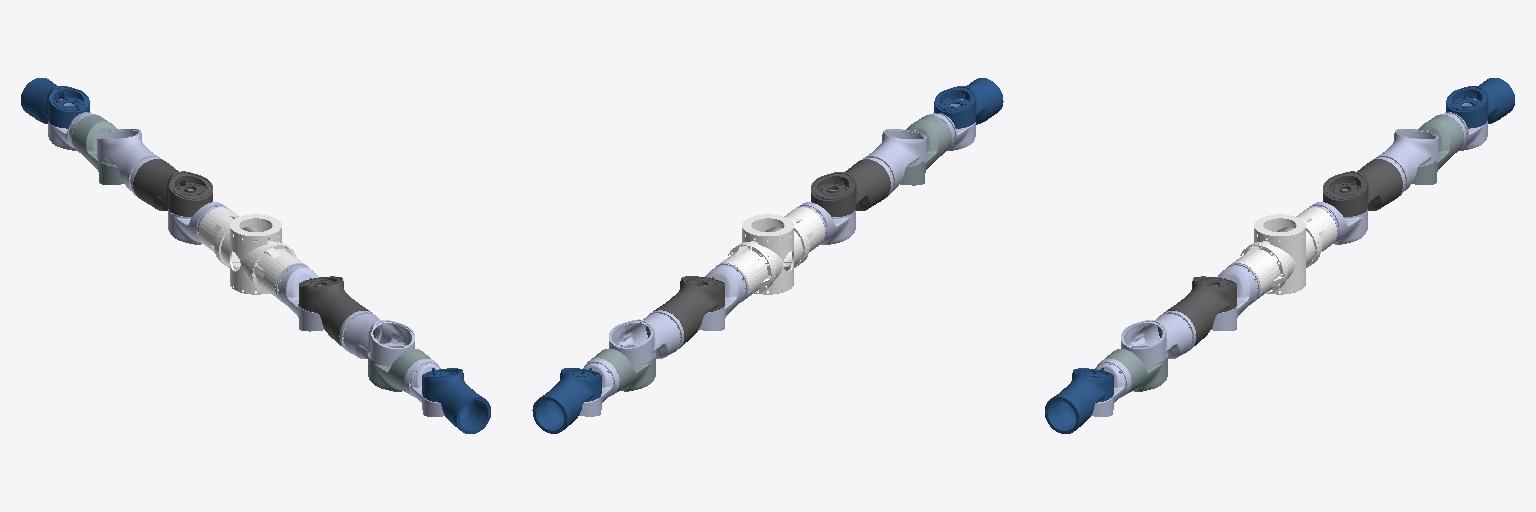
--- Render facts (derived) ---
3 views of the same robot in one strip: view 1: azimuth 30°, elevation 25°; view 2: azimuth 150°, elevation 25°; view 3: azimuth 330°, elevation 25° (orthographic).
Robot: double_urdf_1115 — 15 links, 14 joints (14 revolute); root link base_link; default pose: every joint at zero.
Links seen in each view (by area): view 1: Empty_Link3, base_link, Empty_Link11, Empty_Link14, Empty_Link10, Empty_Link7, Empty_Link4, Empty_Link5, Empty_Link9, Empty_Link8, Empty_Link12, Empty_Link1 (+3 smaller); view 2: Empty_Link10, base_link, Empty_Link7, Empty_Link4, Empty_Link14, Empty_Link3, Empty_Link11, Empty_Link12, Empty_Link2, Empty_Link1, Empty_Link5, Empty_Link8 (+3 smaller); view 3: Empty_Link3, base_link, Empty_Link11, Empty_Link14, Empty_Link10, Empty_Link7, Empty_Link4, Empty_Link5, Empty_Link9, Empty_Link8, Empty_Link12, Empty_Link2 (+3 smaller).
Boxes of the visible links, left/top/right/bottom form: Empty_Link3: left=133, top=159, right=212, bottom=216; base_link: left=217, top=214, right=286, bottom=294; Empty_Link11: left=340, top=311, right=414, bottom=366; Empty_Link14: left=422, top=368, right=490, bottom=433; Empty_Link10: left=299, top=276, right=377, bottom=345; Empty_Link7: left=21, top=78, right=89, bottom=128; Empty_Link4: left=97, top=129, right=162, bottom=195; Empty_Link5: left=72, top=115, right=123, bottom=184; Empty_Link9: left=275, top=264, right=324, bottom=331; Empty_Link8: left=250, top=243, right=306, bottom=298; Empty_Link12: left=368, top=349, right=430, bottom=393; Empty_Link1: left=199, top=207, right=256, bottom=263; Empty_Link10: left=811, top=159, right=890, bottom=216; base_link: left=739, top=214, right=806, bottom=294; Empty_Link7: left=532, top=368, right=601, bottom=433; Empty_Link4: left=609, top=310, right=683, bottom=366; Empty_Link14: left=934, top=78, right=1003, bottom=128; Empty_Link3: left=646, top=276, right=724, bottom=346; Empty_Link11: left=862, top=129, right=926, bottom=197; Empty_Link12: left=900, top=115, right=951, bottom=185; Empty_Link2: left=699, top=263, right=748, bottom=330; Empty_Link1: left=720, top=243, right=773, bottom=301; Empty_Link5: left=591, top=349, right=655, bottom=392; Empty_Link8: left=767, top=207, right=824, bottom=262; Empty_Link3: left=1323, top=159, right=1402, bottom=216; base_link: left=1249, top=214, right=1318, bottom=294; Empty_Link11: left=1121, top=311, right=1195, bottom=366; Empty_Link14: left=1045, top=368, right=1113, bottom=433; Empty_Link10: left=1158, top=276, right=1236, bottom=345; Empty_Link7: left=1446, top=78, right=1514, bottom=128; Empty_Link4: left=1373, top=129, right=1438, bottom=198; Empty_Link5: left=1412, top=115, right=1463, bottom=184; Empty_Link9: left=1211, top=264, right=1260, bottom=330; Empty_Link8: left=1229, top=243, right=1285, bottom=298; Empty_Link12: left=1105, top=349, right=1167, bottom=393; Empty_Link2: left=1307, top=189, right=1367, bottom=244.
Size in the robot's own frame: 0.11 by 1.83 by 0.1365 metres.
15 mesh visuals loaded from 15 distinct referenced files (15 binary STL).

robot.urdf — double_urdf_1115:
<?xml version="1.0" encoding="utf-8" ?>
<!-- This URDF was automatically created by SolidWorks to URDF Exporter! Originally created by Stephen Brawner ([email redacted]) 
     Commit Version: 1.6.0-4-g7f85cfe  Build Version: 1.6.7995.38578
     For more information, please see http://wiki.ros.org/sw_urdf_exporter -->
<robot name="double_urdf_1115">
    <link name="base_link">
        <inertial>
            <origin xyz="0.0014924 -3.6009E-07 0.0071665" rpy="0 0 0" />
            <mass value="0.26633" />
            <inertia ixx="0.001015" ixy="-1.6437E-08" ixz="2.8422E-06" iyy="0.00087826" iyz="-1.5352E-09" izz="0.0009477" />
        </inertial>
        <visual>
            <origin xyz="0 0 0" rpy="0 0 0" />
            <geometry>
                <mesh filename="package://double_urdf_1115/meshes/base_link.STL" />
            </geometry>
            <material name="">
                <color rgba="1 1 1 1" />
            </material>
        </visual>
        <collision>
            <origin xyz="0 0 0" rpy="0 0 0" />
            <geometry>
                <mesh filename="package://double_urdf_1115/meshes/base_link.STL" />
            </geometry>
        </collision>
    </link>
    <link name="Empty_Link1">
        <inertial>
            <origin xyz="1.3342E-15 -1.4314E-16 -0.045037" rpy="0 0 0" />
            <mass value="0.13934" />
            <inertia ixx="0.00027154" ixy="-1.0009E-19" ixz="1.8873E-20" iyy="0.00027154" iyz="2.3247E-20" izz="0.0002872" />
        </inertial>
        <visual>
            <origin xyz="0 0 0.085" rpy="0 0 0" />
            <geometry>
                <mesh filename="package://double_urdf_1115/meshes/Empty_Link1.STL" />
            </geometry>
            <material name="">
                <color rgba="1 1 1 1" />
            </material>
        </visual>
        <collision>
            <origin xyz="0 0 0" rpy="0 0 0" />
            <geometry>
                <mesh filename="package://double_urdf_1115/meshes/Empty_Link1.STL" />
            </geometry>
        </collision>
    </link>
    <joint name="joint1" type="revolute">
        <origin xyz="0 0.07 0" rpy="-1.5708 0 0" />
        <parent link="base_link" />
        <child link="Empty_Link1" />
        <axis xyz="0 0 1" />
        <limit lower="-3.14" upper="3.14" effort="0" velocity="0" />
    </joint>
    <link name="Empty_Link2">
        <inertial>
            <origin xyz="7.166E-06 -0.048549 -0.0068856" rpy="0 0 0" />
            <mass value="0.18506" />
            <inertia ixx="0.00057474" ixy="1.582E-08" ixz="1.5257E-08" iyy="0.00030975" iyz="2.2393E-05" izz="0.00060015" />
        </inertial>
        <visual>
            <origin xyz="0 0.11922 0" rpy="0 0 0" />
            <geometry>
                <mesh filename="package://double_urdf_1115/meshes/Empty_Link2.STL" />
            </geometry>
            <material name="">
                <color rgba="0.79216 0.81961 0.93333 1" />
            </material>
        </visual>
        <collision>
            <origin xyz="0 0 0" rpy="0 0 0" />
            <geometry>
                <mesh filename="package://double_urdf_1115/meshes/Empty_Link2.STL" />
            </geometry>
        </collision>
    </link>
    <joint name="joint2" type="revolute">
        <origin xyz="0 -0.00035 0.085" rpy="1.5708 0 0" />
        <parent link="Empty_Link1" />
        <child link="Empty_Link2" />
        <axis xyz="0 1 0" />
        <limit lower="-3.14" upper="3.14" effort="0" velocity="0" />
    </joint>
    <link name="Empty_Link3">
        <inertial>
            <origin xyz="5.8184E-05 -0.016095 -0.091281" rpy="0 0 0" />
            <mass value="0.17747" />
            <inertia ixx="0.00082408" ixy="-1.8121E-07" ixz="3.8226E-07" iyy="0.00083188" iyz="-0.00014581" izz="0.00032099" />
        </inertial>
        <visual>
            <origin xyz="0 0 0.15914" rpy="0 0 0" />
            <geometry>
                <mesh filename="package://double_urdf_1115/meshes/Empty_Link3.STL" />
            </geometry>
            <material name="">
                <color rgba="0.4 0.4 0.4 1" />
            </material>
        </visual>
        <collision>
            <origin xyz="0 0 0" rpy="0 0 0" />
            <geometry>
                <mesh filename="package://double_urdf_1115/meshes/Empty_Link3.STL" />
            </geometry>
        </collision>
    </link>
    <joint name="joint3" type="revolute">
        <origin xyz="0 0.11922 -0.00045174" rpy="-1.5708 0 0" />
        <parent link="Empty_Link2" />
        <child link="Empty_Link3" />
        <axis xyz="0 1 0" />
        <limit lower="-3.14" upper="3.14" effort="0" velocity="0" />
    </joint>
    <link name="Empty_Link4">
        <inertial>
            <origin xyz="-2.34690957390065E-05 0.0530429982897136 -0.0344936012786148" rpy="0 0 0" />
            <mass value="0.16192408835113" />
            <inertia ixx="0.000592553537026838" ixy="1.24920714247319E-07" ixz="-2.56857673520256E-08" iyy="0.000284690856489502" iyz="-1.56663424512197E-05" izz="0.000621255050385904" />
        </inertial>
        <visual>
            <origin xyz="0 -0.141 0.027937" rpy="0 0 0" />
            <geometry>
                <mesh filename="package://double_urdf_1115/meshes/Empty_Link4.STL" />
            </geometry>
            <material name="">
                <color rgba="0.792156862745098 0.819607843137255 0.933333333333333 1" />
            </material>
        </visual>
        <collision>
            <origin xyz="0 0 0" rpy="0 0 0" />
            <geometry>
                <mesh filename="package://double_urdf_1115/meshes/Empty_Link4.STL" />
            </geometry>
        </collision>
    </link>
    <joint name="joint4" type="revolute">
        <origin xyz="0 0.00045174 0.15914" rpy="-1.5708 0 0" />
        <parent link="Empty_Link3" />
        <child link="Empty_Link4" />
        <axis xyz="0 1 0" />
        <limit lower="-3.14" upper="3.14" effort="0" velocity="0" />
    </joint>
    <link name="Empty_Link5">
        <inertial>
            <origin xyz="1.04535537986443E-05 0.0186156117776231 -0.0808695350497136" rpy="0 0 0" />
            <mass value="0.168807323609659" />
            <inertia ixx="0.000595652486887033" ixy="-1.15153474040901E-08" ixz="3.52118443057937E-08" iyy="0.000609012231195647" iyz="0.000119225841892786" izz="0.000286029197228179" />
        </inertial>
        <visual>
            <origin xyz="0 0.028113 0.13261" rpy="0 0 0" />
            <geometry>
                <mesh filename="package://double_urdf_1115/meshes/Empty_Link5.STL" />
            </geometry>
            <material name="">
                <color rgba="0.592156862745098 0.666666666666667 0.682352941176471 1" />
            </material>
        </visual>
        <collision>
            <origin xyz="0 0 0" rpy="0 0 0" />
            <geometry>
                <mesh filename="package://double_urdf_1115/meshes/Empty_Link5.STL" />
            </geometry>
        </collision>
    </link>
    <joint name="joint5" type="revolute">
        <origin xyz="0 -0.13261 -0.028113" rpy="1.5708 0 0" />
        <parent link="Empty_Link4" />
        <child link="Empty_Link5" />
        <axis xyz="0 1 0" />
        <limit lower="-3.14" upper="3.14" effort="0" velocity="0" />
    </joint>
    <link name="Empty_Link6">
        <inertial>
            <origin xyz="-5.37742704261599E-06 -0.0294879271262189 -0.0050268422920796" rpy="0 0 0" />
            <mass value="0.117396065677008" />
            <inertia ixx="0.000223870432302695" ixy="7.95027783487269E-09" ixz="-5.72128501019399E-09" iyy="0.000157599697987618" iyz="-2.17977047320675E-06" izz="0.000247478280617227" />
        </inertial>
        <visual>
            <origin xyz="0 0.0874 0" rpy="0 0 0" />
            <geometry>
                <mesh filename="package://double_urdf_1115/meshes/Empty_Link6.STL" />
            </geometry>
            <material name="">
                <color rgba="0.792156862745098 0.819607843137255 0.933333333333333 1" />
            </material>
        </visual>
        <collision>
            <origin xyz="0 0 0" rpy="0 0 0" />
            <geometry>
                <mesh filename="package://double_urdf_1115/meshes/Empty_Link6.STL" />
            </geometry>
        </collision>
    </link>
    <joint name="joint6" type="revolute">
        <origin xyz="0 0.028113 0.13261" rpy="1.5708 0 0" />
        <parent link="Empty_Link5" />
        <child link="Empty_Link6" />
        <axis xyz="0 1 0" />
        <limit lower="-3.14" upper="3.14" effort="0" velocity="0" />
    </joint>
    <link name="Empty_Link7">
        <inertial>
            <origin xyz="-3.59625462130323E-05 -0.0148085138766828 -0.0803302114956457" rpy="0 0 0" />
            <mass value="0.142755944866628" />
            <inertia ixx="0.000464416842224509" ixy="-1.13125801258198E-07" ixz="-2.41633988960636E-07" iyy="0.000477322772947618" iyz="-8.04893326122221E-05" izz="0.000208248311212371" />
        </inertial>
        <visual>
            <origin xyz="0 0 0.13012" rpy="0 0 0" />
            <geometry>
                <mesh filename="package://double_urdf_1115/meshes/Empty_Link7.STL" />
            </geometry>
            <material name="">
                <color rgba="0.207843137254902 0.376470588235294 0.568627450980392 1" />
            </material>
        </visual>
        <collision>
            <origin xyz="0 0 0" rpy="0 0 0" />
            <geometry>
                <mesh filename="package://double_urdf_1115/meshes/Empty_Link7.STL" />
            </geometry>
        </collision>
    </link>
    <joint name="joint7" type="revolute">
        <origin xyz="0 0.0874 6.068E-05" rpy="-1.5708 0 0" />
        <parent link="Empty_Link6" />
        <child link="Empty_Link7" />
        <axis xyz="0 1 0" />
        <limit lower="-3.14" upper="3.14" effort="0" velocity="0" />
    </joint>
    <link name="Empty_Link8">
        <inertial>
            <origin xyz="1.49721899678073E-17 1.21212098202637E-17 -0.0450366643520861" rpy="0 0 0" />
            <mass value="0.139340614702608" />
            <inertia ixx="0.000271543617515806" ixy="0" ixz="3.28941289409917E-20" iyy="0.000271543617515806" iyz="-1.90269046791232E-20" izz="0.000287198405303248" />
        </inertial>
        <visual>
            <origin xyz="0 0 0.085" rpy="0 0 0" />
            <geometry>
                <mesh filename="package://double_urdf_1115/meshes/Empty_Link8.STL" />
            </geometry>
            <material name="">
                <color rgba="1 1 1 1" />
            </material>
        </visual>
        <collision>
            <origin xyz="0 0 0" rpy="0 0 0" />
            <geometry>
                <mesh filename="package://double_urdf_1115/meshes/Empty_Link8.STL" />
            </geometry>
        </collision>
    </link>
    <joint name="joint8" type="revolute">
        <origin xyz="0 -0.07 0" rpy="1.5708 0 0" />
        <parent link="base_link" />
        <child link="Empty_Link8" />
        <axis xyz="0 0 1" />
        <limit lower="-3.14" upper="3.14" effort="0" velocity="0" />
    </joint>
    <link name="Empty_Link9">
        <inertial>
            <origin xyz="-7.16594927825932E-06 0.0485485652046426 -0.00688560464007289" rpy="0 0 0" />
            <mass value="0.185060518932336" />
            <inertia ixx="0.000574743039604598" ixy="1.58201859118487E-08" ixz="-1.52565385581314E-08" iyy="0.000309754503746068" iyz="-2.23925932297582E-05" izz="0.000600146186131235" />
        </inertial>
        <visual>
            <origin xyz="0 -0.11922 0" rpy="0 0 0" />
            <geometry>
                <mesh filename="package://double_urdf_1115/meshes/Empty_Link9.STL" />
            </geometry>
            <material name="">
                <color rgba="0.792156862745098 0.819607843137255 0.933333333333333 1" />
            </material>
        </visual>
        <collision>
            <origin xyz="0 0 0" rpy="0 0 0" />
            <geometry>
                <mesh filename="package://double_urdf_1115/meshes/Empty_Link9.STL" />
            </geometry>
        </collision>
    </link>
    <joint name="joint9" type="revolute">
        <origin xyz="0 -0.00035 0.085" rpy="-1.5708 0 0" />
        <parent link="Empty_Link8" />
        <child link="Empty_Link9" />
        <axis xyz="0 1 0" />
        <limit lower="-3.14" upper="3.14" effort="0" velocity="0" />
    </joint>
    <link name="Empty_Link10">
        <inertial>
            <origin xyz="-5.94384826685485E-05 0.0160958771905672 -0.0912820049952374" rpy="0 0 0" />
            <mass value="0.177472851336342" />
            <inertia ixx="0.000824077447613594" ixy="-1.72307611943163E-07" ixz="-3.71042895258372E-07" iyy="0.000831872702963459" iyz="0.000145819419475302" izz="0.000320999323188475" />
        </inertial>
        <visual>
            <origin xyz="0 0 0.15914" rpy="0 0 0" />
            <geometry>
                <mesh filename="package://double_urdf_1115/meshes/Empty_Link10.STL" />
            </geometry>
            <material name="">
                <color rgba="0.4 0.4 0.4 1" />
            </material>
        </visual>
        <collision>
            <origin xyz="0 0 0" rpy="0 0 0" />
            <geometry>
                <mesh filename="package://double_urdf_1115/meshes/Empty_Link10.STL" />
            </geometry>
        </collision>
    </link>
    <joint name="joint10" type="revolute">
        <origin xyz="0 -0.11922 -0.00045174" rpy="1.5708 0 0" />
        <parent link="Empty_Link9" />
        <child link="Empty_Link10" />
        <axis xyz="0 1 0" />
        <limit lower="-3.14" upper="3.14" effort="0" velocity="0" />
    </joint>
    <link name="Empty_Link11">
        <inertial>
            <origin xyz="2.34441480310305E-05 -0.0530429302263745 -0.0344937239635185" rpy="0 0 0" />
            <mass value="0.161924001999403" />
            <inertia ixx="0.000592552353330134" ixy="1.2434344296049E-07" ixz="2.63003230418194E-08" iyy="0.000284690451366544" iyz="1.56656637680802E-05" izz="0.000621253748082398" />
        </inertial>
        <visual>
            <origin xyz="0 0.141 0.027937" rpy="0 0 0" />
            <geometry>
                <mesh filename="package://double_urdf_1115/meshes/Empty_Link11.STL" />
            </geometry>
            <material name="">
                <color rgba="0.792156862745098 0.819607843137255 0.933333333333333 1" />
            </material>
        </visual>
        <collision>
            <origin xyz="0 0 0" rpy="0 0 0" />
            <geometry>
                <mesh filename="package://double_urdf_1115/meshes/Empty_Link11.STL" />
            </geometry>
        </collision>
    </link>
    <joint name="joint11" type="revolute">
        <origin xyz="0 -0.00045174 0.15914" rpy="1.5708 0 0" />
        <parent link="Empty_Link10" />
        <child link="Empty_Link11" />
        <axis xyz="0 1 0" />
        <limit lower="-3.14" upper="3.14" effort="0" velocity="0" />
    </joint>
    <link name="Empty_Link12">
        <inertial>
            <origin xyz="-1.04514586418068E-05 -0.0186156122160094 -0.0808695354091304" rpy="0 0 0" />
            <mass value="0.168807314881665" />
            <inertia ixx="0.000595652505520319" ixy="-1.15092010285501E-08" ixz="-3.52119149028543E-08" iyy="0.000609012222102752" iyz="-0.000119225846097008" izz="0.000286029204756189" />
        </inertial>
        <visual>
            <origin xyz="0 -0.028113 0.13261" rpy="0 0 0" />
            <geometry>
                <mesh filename="package://double_urdf_1115/meshes/Empty_Link12.STL" />
            </geometry>
            <material name="">
                <color rgba="0.592156862745098 0.666666666666667 0.682352941176471 1" />
            </material>
        </visual>
        <collision>
            <origin xyz="0 0 0" rpy="0 0 0" />
            <geometry>
                <mesh filename="package://double_urdf_1115/meshes/Empty_Link12.STL" />
            </geometry>
        </collision>
    </link>
    <joint name="joint12" type="revolute">
        <origin xyz="0 0.13261 -0.028113" rpy="-1.5708 0 0" />
        <parent link="Empty_Link11" />
        <child link="Empty_Link12" />
        <axis xyz="0 1 0" />
        <limit lower="-3.14" upper="3.14" effort="0" velocity="0" />
    </joint>
    <link name="Empty_Link13">
        <inertial>
            <origin xyz="5.40421941918373E-06 0.0294879292709374 -0.00502683974917504" rpy="0 0 0" />
            <mass value="0.117396053955842" />
            <inertia ixx="0.000223870417500324" ixy="8.02611360782286E-09" ixz="5.79779807908504E-09" iyy="0.000157599679542628" iyz="2.17977735443414E-06" izz="0.00024747826441045" />
        </inertial>
        <visual>
            <origin xyz="0 -0.0874 0" rpy="0 0 0" />
            <geometry>
                <mesh filename="package://double_urdf_1115/meshes/Empty_Link13.STL" />
            </geometry>
            <material name="">
                <color rgba="0.792156862745098 0.819607843137255 0.933333333333333 1" />
            </material>
        </visual>
        <collision>
            <origin xyz="0 0 0" rpy="0 0 0" />
            <geometry>
                <mesh filename="package://double_urdf_1115/meshes/Empty_Link13.STL" />
            </geometry>
        </collision>
    </link>
    <joint name="joint13" type="revolute">
        <origin xyz="0 -0.028113 0.13261" rpy="-1.5708 0 0" />
        <parent link="Empty_Link12" />
        <child link="Empty_Link13" />
        <axis xyz="0 1 0" />
        <limit lower="-3.14" upper="3.14" effort="0" velocity="0" />
    </joint>
    <link name="Empty_Link14">
        <inertial>
            <origin xyz="3.5981E-05 0.014808 -0.08033" rpy="0 0 0" />
            <mass value="0.14276" />
            <inertia ixx="0.00046442" ixy="-1.1306E-07" ixz="2.4166E-07" iyy="0.00047732" iyz="8.0489E-05" izz="0.00020825" />
        </inertial>
        <visual>
            <origin xyz="0 0 0.13012" rpy="0 0 0" />
            <geometry>
                <mesh filename="package://double_urdf_1115/meshes/Empty_Link14.STL" />
            </geometry>
            <material name="">
                <color rgba="0.20784 0.37647 0.56863 1" />
            </material>
        </visual>
        <collision>
            <origin xyz="0 0 0" rpy="0 0 0" />
            <geometry>
                <mesh filename="package://double_urdf_1115/meshes/Empty_Link14.STL" />
            </geometry>
        </collision>
    </link>
    <joint name="joint14" type="revolute">
        <origin xyz="0 -0.0874 6.068E-05" rpy="1.5708 0 0" />
        <parent link="Empty_Link13" />
        <child link="Empty_Link14" />
        <axis xyz="0 1 0" />
        <limit lower="-3.14" upper="3.14" effort="0" velocity="0" />
    </joint>
    <gazebo>
        <physics>
            <ode>
                <cfm>0.1</cfm>
                <erp>0.2</erp>
            </ode>
        </physics>
        <plugin name="joint_state_publisher" filename="libgazebo_ros_joint_state_publisher.so">
            <joint_name>joint1, joint2, joint3, joint4, joint5, joint6, joint7, joint8, joint9, joint10, joint11, joint12, joint13, joint14</joint_name>
            <update_rate>50</update_rate>
        </plugin>
        <plugin name="gazebo_ros_control" filename="libgazebo_ros_control.so">
            <robotNamespace>/</robotNamespace>
            <robotSimType>gazebo_ros_control/DefaultRobotHWSim</robotSimType>
        </plugin>
    </gazebo>
    <transmission name="trans_joint1">
        <type>transmission_interface/SimpleTransmission</type>
        <joint name="joint1">
            <hardwareInterface>hardware_interface/EffortJointInterface</hardwareInterface>
        </joint>
        <actuator name="joint1_motor">
            <hardwareInterface>hardware_interface/EffortJointInterface</hardwareInterface>
            <mechanicalReduction>1</mechanicalReduction>
        </actuator>
    </transmission>
    <transmission name="trans_joint2">
        <type>transmission_interface/SimpleTransmission</type>
        <joint name="joint2">
            <hardwareInterface>hardware_interface/EffortJointInterface</hardwareInterface>
        </joint>
        <actuator name="joint2_motor">
            <hardwareInterface>hardware_interface/EffortJointInterface</hardwareInterface>
            <mechanicalReduction>1</mechanicalReduction>
        </actuator>
    </transmission>
    <transmission name="trans_joint3">
        <type>transmission_interface/SimpleTransmission</type>
        <joint name="joint3">
            <hardwareInterface>hardware_interface/EffortJointInterface</hardwareInterface>
        </joint>
        <actuator name="joint3_motor">
            <hardwareInterface>hardware_interface/EffortJointInterface</hardwareInterface>
            <mechanicalReduction>1</mechanicalReduction>
        </actuator>
    </transmission>
    <transmission name="trans_joint4">
        <type>transmission_interface/SimpleTransmission</type>
        <joint name="joint4">
            <hardwareInterface>hardware_interface/EffortJointInterface</hardwareInterface>
        </joint>
        <actuator name="joint4_motor">
            <hardwareInterface>hardware_interface/EffortJointInterface</hardwareInterface>
            <mechanicalReduction>1</mechanicalReduction>
        </actuator>
    </transmission>
    <transmission name="trans_joint5">
        <type>transmission_interface/SimpleTransmission</type>
        <joint name="joint5">
            <hardwareInterface>hardware_interface/EffortJointInterface</hardwareInterface>
        </joint>
        <actuator name="joint5_motor">
            <hardwareInterface>hardware_interface/EffortJointInterface</hardwareInterface>
            <mechanicalReduction>1</mechanicalReduction>
        </actuator>
    </transmission>
    <transmission name="trans_joint6">
        <type>transmission_interface/SimpleTransmission</type>
        <joint name="joint6">
            <hardwareInterface>hardware_interface/EffortJointInterface</hardwareInterface>
        </joint>
        <actuator name="joint6_motor">
            <hardwareInterface>hardware_interface/EffortJointInterface</hardwareInterface>
            <mechanicalReduction>1</mechanicalReduction>
        </actuator>
    </transmission>
    <transmission name="trans_joint7">
        <type>transmission_interface/SimpleTransmission</type>
        <joint name="joint7">
            <hardwareInterface>hardware_interface/EffortJointInterface</hardwareInterface>
        </joint>
        <actuator name="joint7_motor">
            <hardwareInterface>hardware_interface/EffortJointInterface</hardwareInterface>
            <mechanicalReduction>1</mechanicalReduction>
        </actuator>
    </transmission>
    <transmission name="trans_joint8">
        <type>transmission_interface/SimpleTransmission</type>
        <joint name="joint8">
            <hardwareInterface>hardware_interface/EffortJointInterface</hardwareInterface>
        </joint>
        <actuator name="joint8_motor">
            <hardwareInterface>hardware_interface/EffortJointInterface</hardwareInterface>
            <mechanicalReduction>1</mechanicalReduction>
        </actuator>
    </transmission>
    <transmission name="trans_joint9">
        <type>transmission_interface/SimpleTransmission</type>
        <joint name="joint9">
            <hardwareInterface>hardware_interface/EffortJointInterface</hardwareInterface>
        </joint>
        <actuator name="joint9_motor">
            <hardwareInterface>hardware_interface/EffortJointInterface</hardwareInterface>
            <mechanicalReduction>1</mechanicalReduction>
        </actuator>
    </transmission>
    <transmission name="trans_joint10">
        <type>transmission_interface/SimpleTransmission</type>
        <joint name="joint10">
            <hardwareInterface>hardware_interface/EffortJointInterface</hardwareInterface>
        </joint>
        <actuator name="joint10_motor">
            <hardwareInterface>hardware_interface/EffortJointInterface</hardwareInterface>
            <mechanicalReduction>1</mechanicalReduction>
        </actuator>
    </transmission>
    <transmission name="trans_joint11">
        <type>transmission_interface/SimpleTransmission</type>
        <joint name="joint11">
            <hardwareInterface>hardware_interface/EffortJointInterface</hardwareInterface>
        </joint>
        <actuator name="joint11_motor">
            <hardwareInterface>hardware_interface/EffortJointInterface</hardwareInterface>
            <mechanicalReduction>1</mechanicalReduction>
        </actuator>
    </transmission>
    <transmission name="trans_joint12">
        <type>transmission_interface/SimpleTransmission</type>
        <joint name="joint12">
            <hardwareInterface>hardware_interface/EffortJointInterface</hardwareInterface>
        </joint>
        <actuator name="joint12_motor">
            <hardwareInterface>hardware_interface/EffortJointInterface</hardwareInterface>
            <mechanicalReduction>1</mechanicalReduction>
        </actuator>
    </transmission>
    <transmission name="trans_joint13">
        <type>transmission_interface/SimpleTransmission</type>
        <joint name="joint13">
            <hardwareInterface>hardware_interface/EffortJointInterface</hardwareInterface>
        </joint>
        <actuator name="joint13_motor">
            <hardwareInterface>hardware_interface/EffortJointInterface</hardwareInterface>
            <mechanicalReduction>1</mechanicalReduction>
        </actuator>
    </transmission>
    <transmission name="trans_joint14">
        <type>transmission_interface/SimpleTransmission</type>
        <joint name="joint14">
            <hardwareInterface>hardware_interface/EffortJointInterface</hardwareInterface>
        </joint>
        <actuator name="joint14_motor">
            <hardwareInterface>hardware_interface/EffortJointInterface</hardwareInterface>
            <mechanicalReduction>1</mechanicalReduction>
        </actuator>
    </transmission>
</robot>
